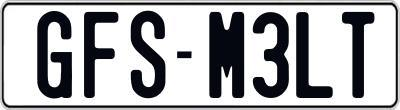3: (252, 9, 294, 97)
F: (83, 11, 119, 99)
G: (35, 10, 74, 99)
L: (295, 12, 338, 100)
M: (208, 12, 247, 101)
S: (130, 10, 170, 101)
T: (339, 10, 372, 99)
